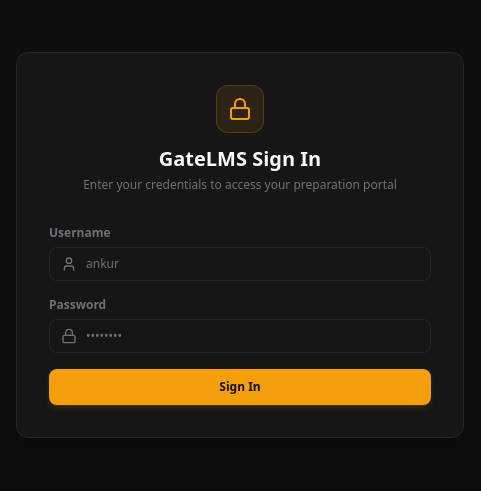
Test: LoginPage Component › 4 displays error banner on 401 invalid credentials
Type "wronguser" into the field with test id "login-username-input" at (240, 264), box left=49, top=247, right=431, bottom=281
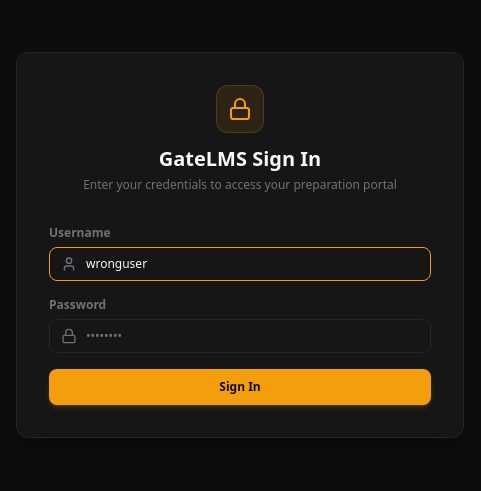
Type "wrongpass" into the password field with test id "login-password-input" at (240, 336), box left=49, top=319, right=431, bottom=353
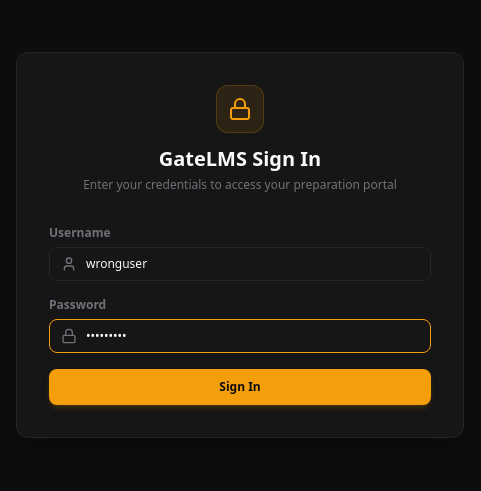
Click the button with test id "login-submit-button" at (240, 387), box left=49, top=369, right=431, bottom=405
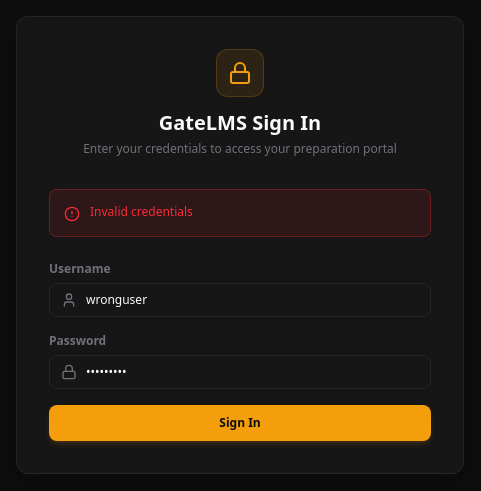
expect the element with test id "login-error-banner" is shown: met, box left=49, top=189, right=431, bottom=237
expect the text "Invalid credentials" is shown: met, box left=90, top=204, right=193, bottom=220
